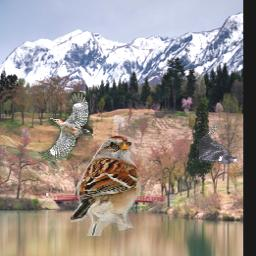Crow: (199, 122, 238, 165)
Sparrow: (71, 134, 143, 236)
Woodpecker: (40, 93, 92, 162)
